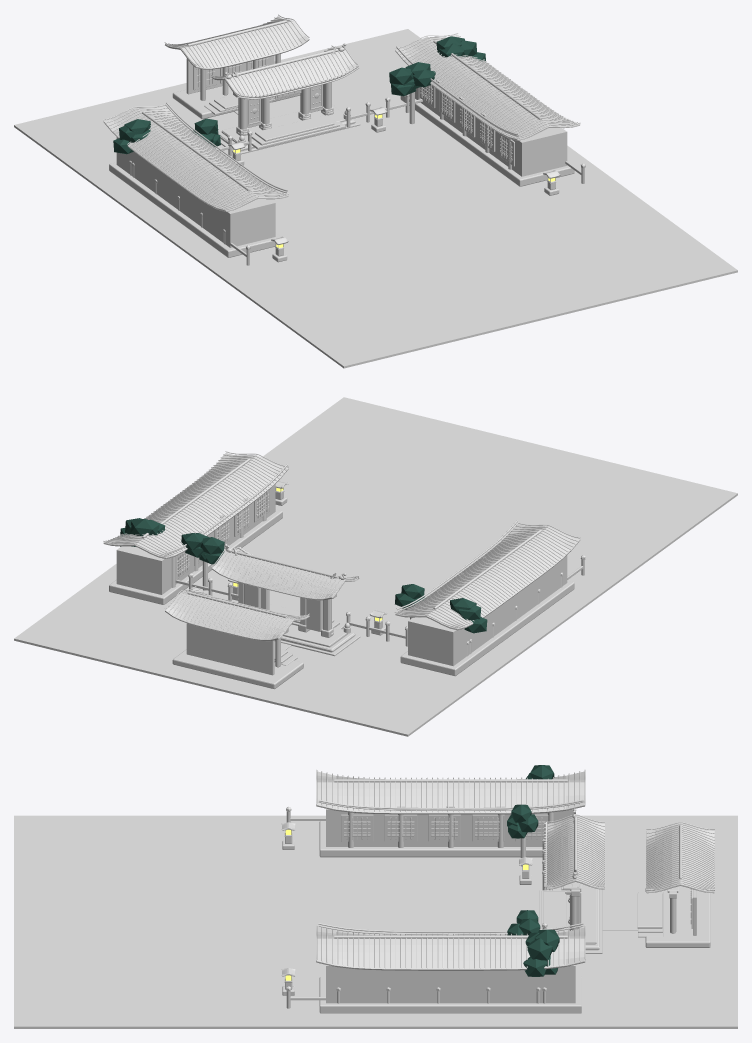
Rendered from moonlit_temple_v8_architecture.fbx.
3 renders of one model, top to bottom at view 1: azimuth 30°, elevation 25°; view 2: azimuth 150°, elevation 25°; view 3: azimuth 270°, elevation 25°, orthographic. The views are drawn at different scales.
Visible parts, largest first — view 1: wet stone courtyard, left side hall roof, right side hall roof, left side hall body, left hall roof tiles, right hall roof tiles, inner temple roof, central gate roof, right side hall body, left hall base, right hall base, inner temple roof tiles (+4 smaller); view 2: wet stone courtyard, left side hall roof, right side hall roof, left side hall body, left hall roof tiles, right hall roof tiles, inner temple roof, central gate roof, right side hall body, inner temple back wall, left hall base, inner temple foundation (+4 smaller); view 3: wet stone courtyard, right side hall body, right side hall roof, left side hall roof, inner temple roof, inner temple roof tiles, right hall base, central gate roof tiles, central gate roof, left side hall body, left hall roof tiles, left hall base (+15 smaller).
Part boxes in pixels (left/top/right/bottom): wet stone courtyard: left=14, top=29, right=737, bottom=368; left side hall roof: left=103, top=106, right=288, bottom=211; right side hall roof: left=395, top=34, right=580, bottom=140; left side hall body: left=116, top=137, right=275, bottom=247; left hall roof tiles: left=103, top=104, right=288, bottom=209; right hall roof tiles: left=394, top=33, right=580, bottom=138; inner temple roof: left=165, top=16, right=309, bottom=69; central gate roof: left=211, top=47, right=356, bottom=97; right side hall body: left=415, top=88, right=567, bottom=176; left hall base: left=109, top=162, right=280, bottom=257; right hall base: left=400, top=96, right=574, bottom=186; inner temple roof tiles: left=164, top=14, right=309, bottom=67; wet stone courtyard: left=14, top=397, right=737, bottom=736; left side hall roof: left=395, top=524, right=580, bottom=630; right side hall roof: left=103, top=453, right=288, bottom=558; left side hall body: left=408, top=555, right=567, bottom=666; left hall roof tiles: left=395, top=522, right=580, bottom=627; right hall roof tiles: left=103, top=451, right=288, bottom=556; inner temple roof: left=165, top=588, right=309, bottom=641; central gate roof: left=211, top=548, right=358, bottom=600; right side hall body: left=116, top=484, right=275, bottom=594; inner temple back wall: left=186, top=623, right=274, bottom=675; left hall base: left=400, top=580, right=574, bottom=676; inner temple foundation: left=172, top=649, right=303, bottom=689; wet stone courtyard: left=14, top=815, right=737, bottom=1028; right side hall body: left=326, top=965, right=575, bottom=1003; right side hall roof: left=316, top=927, right=585, bottom=970; left side hall roof: left=316, top=771, right=585, bottom=814; inner temple roof: left=646, top=823, right=714, bottom=893; inner temple roof tiles: left=646, top=822, right=714, bottom=890; right hall base: left=319, top=976, right=581, bottom=1013; central gate roof tiles: left=546, top=814, right=605, bottom=887; central gate roof: left=546, top=817, right=604, bottom=889; left side hall body: left=326, top=808, right=573, bottom=846; left hall roof tiles: left=316, top=769, right=585, bottom=812; left hall base: left=319, top=821, right=542, bottom=857.
Bounding box in the file's own units: 40 × 7.34 × 58.
